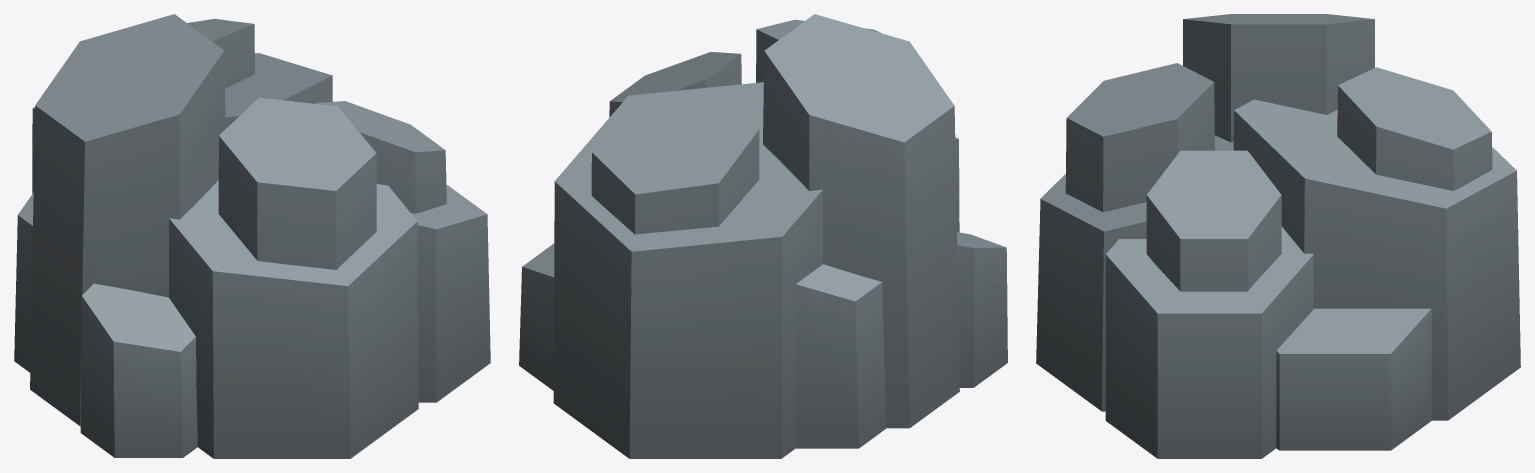
File: mountain-c.glb
The picture shows the model from 3 angles, left to right: view 1: azimuth 30°, elevation 25°; view 2: azimuth 150°, elevation 25°; view 3: azimuth 270°, elevation 25°; orthographic projection. The views are drawn at different scales.
Visible parts, largest first — view 1: mountain_C; view 2: mountain_C; view 3: mountain_C.
Part boxes in pixels (<box>): mountain_C: <box>14,14,490,458</box>; mountain_C: <box>519,14,1007,458</box>; mountain_C: <box>1036,14,1520,458</box>.
Size of the model in its own units: 1.76 by 1.51 by 2.02.
Materials: 1 (1 with a texture image).
